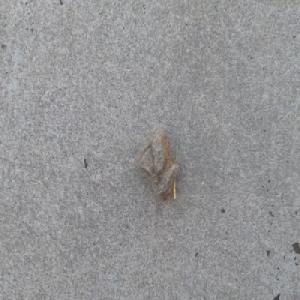Rock: (133, 125, 179, 203)
